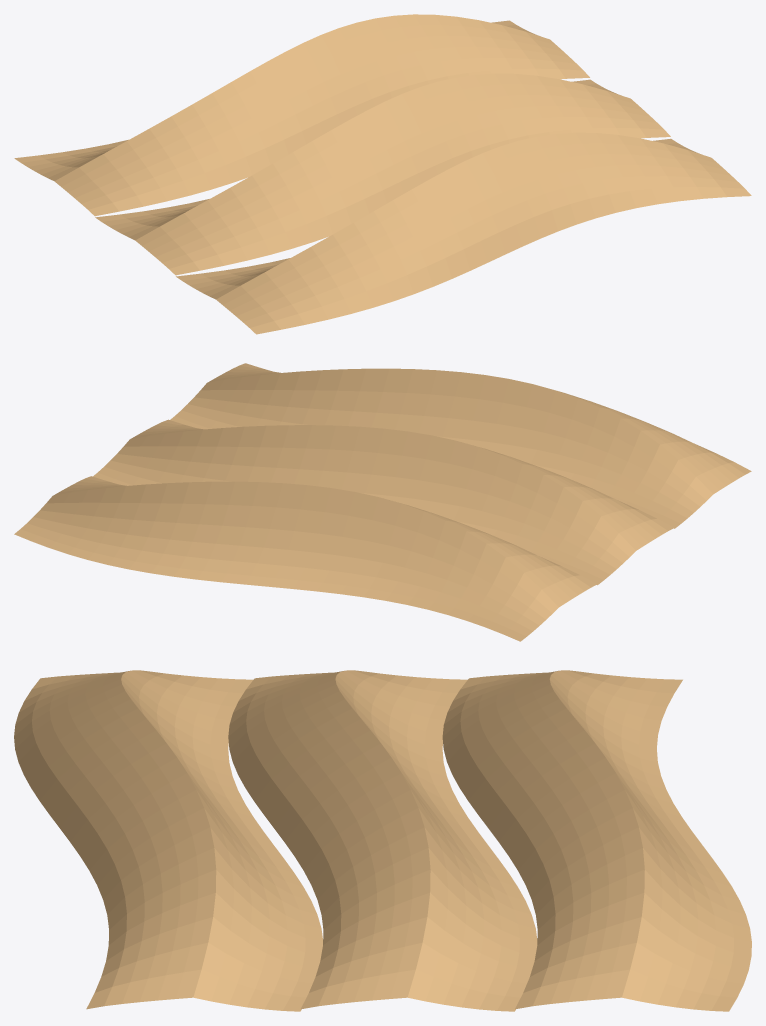
Rendered from FEATURE_DUNES_v00.fbx.
3 views of the same model, one above another, from view 1: azimuth 30°, elevation 25°; view 2: azimuth 150°, elevation 25°; view 3: azimuth 270°, elevation 25° (orthographic). The views are drawn at different scales.
Parts seen in each view (by area): view 1: Wind_sculpted_dune, Wind_sculpted_dune.002, Wind_sculpted_dune.001; view 2: Wind_sculpted_dune.002, Wind_sculpted_dune, Wind_sculpted_dune.001; view 3: Wind_sculpted_dune.002, Wind_sculpted_dune.001, Wind_sculpted_dune.
Part boxes in pixels (x1,y1,x2,y2): Wind_sculpted_dune: (176, 132, 751, 334); Wind_sculpted_dune.002: (14, 14, 589, 216); Wind_sculpted_dune.001: (95, 73, 670, 275); Wind_sculpted_dune.002: (14, 476, 597, 641); Wind_sculpted_dune: (170, 363, 751, 528); Wind_sculpted_dune.001: (93, 419, 674, 585); Wind_sculpted_dune.002: (442, 670, 751, 1011); Wind_sculpted_dune.001: (228, 670, 537, 1011); Wind_sculpted_dune: (14, 670, 322, 1011).
Bounding box in the file's own units: 132 × 18.99 × 124.
